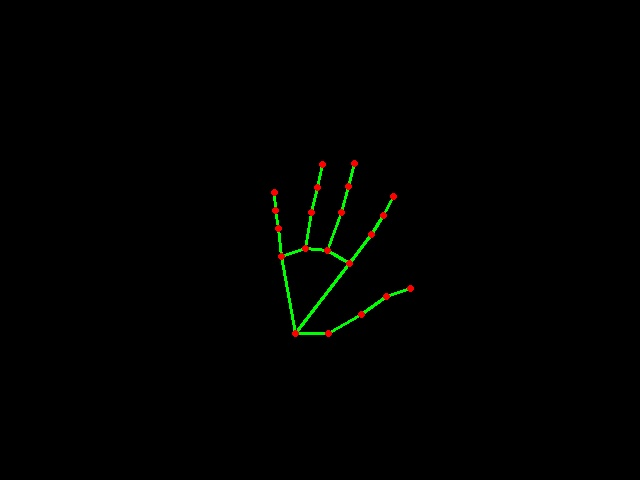stop: (259, 143, 424, 344)
